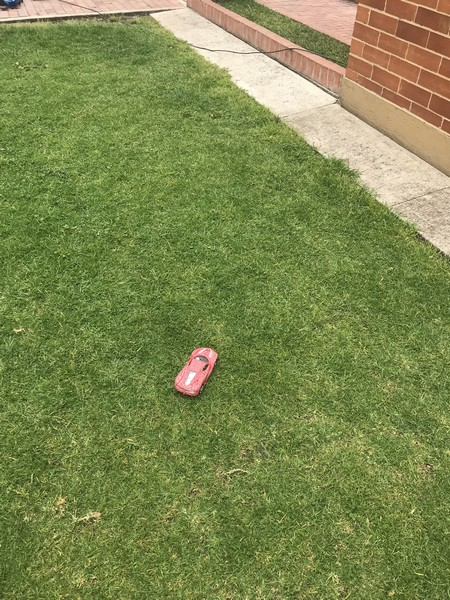RC: (171, 345, 219, 399)
